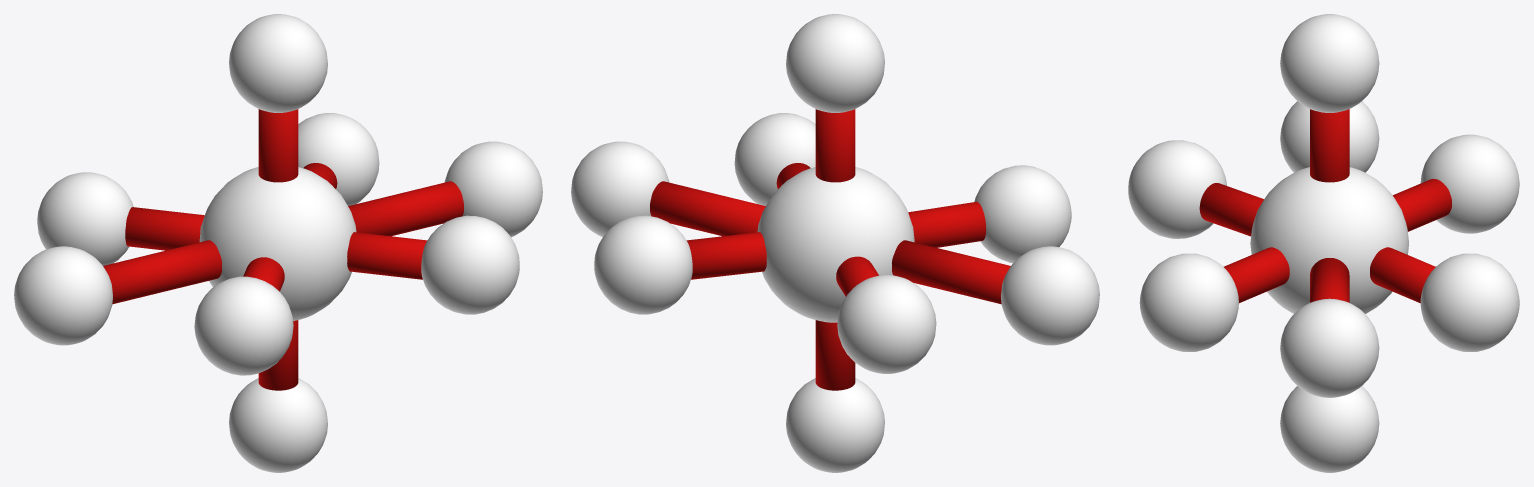
The picture shows the model from 3 angles, left to right: view 1: azimuth 30°, elevation 25°; view 2: azimuth 150°, elevation 25°; view 3: azimuth 270°, elevation 25°; orthographic projection.
Visible parts, largest first — view 1: Sphere, H.006, H, H.005, H.002, H.004, H.003, H.007, H.001, bond.006, bond.007, bond.002 (+4 smaller); view 2: Sphere, H.006, H, H.003, H.001, H.004, H.005, H.007, H.002, bond.006, bond.007, bond.001 (+4 smaller); view 3: Sphere, H.007, H, H.001, H.002, H.005, H.003, H.004, H.006, bond, bond.002, bond.001 (+3 smaller).
Boxes of the visible parts, box(x1,y1,x2,y2) form: Sphere: box(199, 167, 356, 320); H.006: box(14, 246, 112, 345); H: box(229, 14, 327, 112); H.005: box(194, 276, 293, 375); H.002: box(421, 215, 519, 314); H.004: box(229, 378, 327, 472); H.003: box(37, 172, 133, 265); H.007: box(444, 141, 542, 237); H.001: box(298, 113, 379, 205); bond.006: box(103, 240, 221, 304); bond.007: box(348, 181, 463, 236); bond.002: box(347, 232, 427, 279); Sphere: box(757, 167, 914, 322); H.006: box(1001, 246, 1099, 345); H: box(786, 14, 884, 112); H.003: box(837, 275, 936, 373); H.001: box(594, 215, 692, 314); H.004: box(786, 378, 884, 472); H.005: box(974, 165, 1071, 263); H.007: box(571, 141, 669, 237); H.002: box(734, 113, 815, 205); bond.006: box(892, 240, 1010, 304); bond.007: box(650, 181, 765, 236); bond.001: box(686, 232, 766, 279); Sphere: box(1250, 167, 1408, 313); H.007: box(1280, 298, 1379, 397); H: box(1280, 14, 1379, 112); H.001: box(1420, 253, 1519, 351); H.002: box(1139, 253, 1238, 351); H.005: box(1128, 140, 1226, 238); H.003: box(1420, 134, 1519, 233); H.004: box(1280, 386, 1379, 472); H.006: box(1280, 101, 1379, 172); bond: box(1310, 109, 1349, 182); bond.002: box(1224, 247, 1289, 303); bond.001: box(1370, 247, 1435, 303).
Size of the model in its own units: 600 by 500 by 394.
